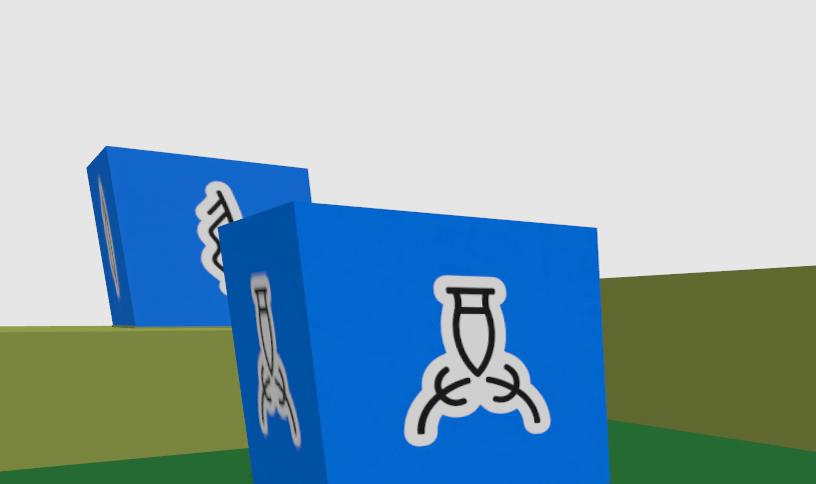KFS_REAL: (224, 201, 609, 484), (88, 146, 309, 325), (405, 276, 550, 445), (252, 273, 300, 448), (196, 180, 242, 294)
